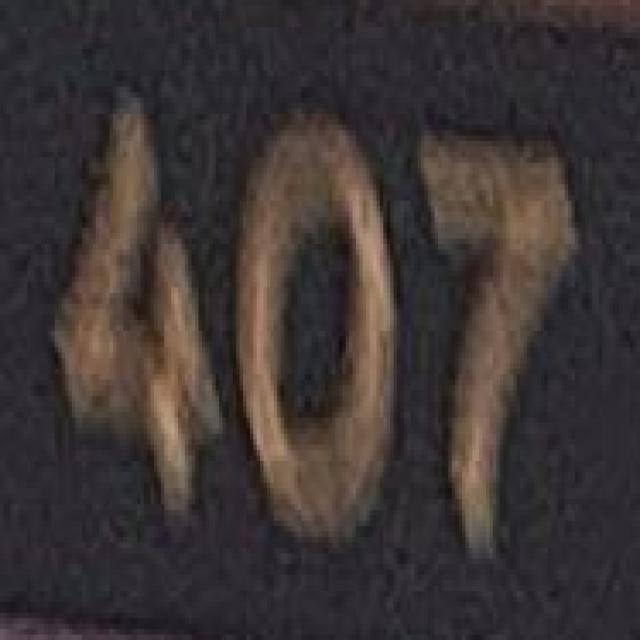character: (47, 100, 223, 527), (417, 120, 577, 586), (234, 98, 395, 549)
